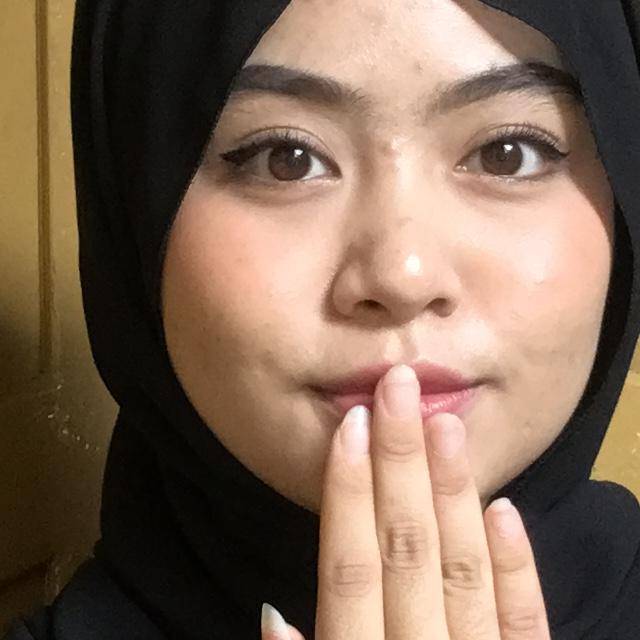ganteng: (170, 306, 640, 640)
